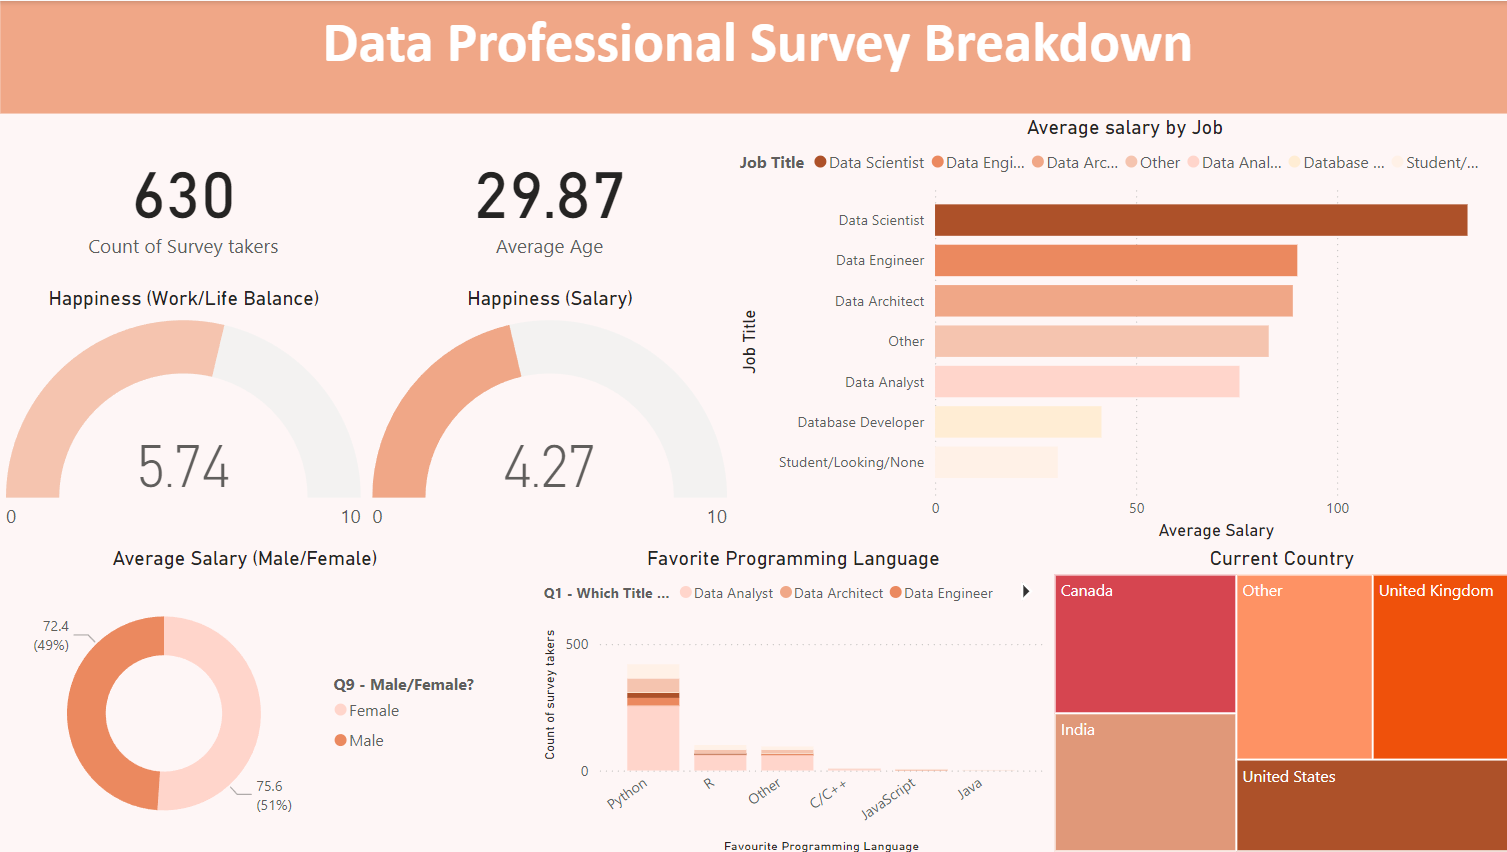

The page's visual inventory and layout, read from the dashboard file:
{"tool":"powerbi","page":{"name":"Page 1","canvas":[1280,720],"ordinal":0},"visuals":[{"type":"textbox","box":[9.6,0,1270.7,94.7],"z":0},{"type":"card","fields":{"Values":["CountNonNull(Data Professional Survey.Unique ID)"]},"box":[50.8,95.2,225.5,143.4],"z":1000},{"type":"card","fields":{"Values":["Avg(Data Professional Survey.Q10 - Current Age)"]},"box":[338.9,95.2,263.3,143.4],"z":2000},{"type":"barChart","title":"Average salary by Job ","fields":{"Category":["Data Professional Survey.Q1 - Which Title Best Fits your Current Role?.1"],"Y":["Avg(Data Professional Survey.Average Salary)"],"Series":["Data Professional Survey.Q1 - Which Title Best Fits your Current Role?.1"]},"box":[624.4,95.3,655.8,361.6],"z":3000},{"type":"columnChart","title":"Favorite Programming Language","fields":{"Category":["Data Professional Survey.Q5 - Favorite Programming Language.1"],"Y":["CountNonNull(Data Professional Survey.Unique ID)"],"Series":["Data Professional Survey.Q1 - Which Title Best Fits your Current Role?.1"]},"box":[460.1,457.5,428.8,263.3],"z":4000},{"type":"treemap","title":"Current Country","fields":{"Group":["Data Professional Survey.Q11 - Which Country do you live in?.1"],"Values":["Count(Data Professional Survey.Q11 - Which Country do you live in?.1)"]},"box":[889,457.5,391,262],"z":5000},{"type":"gauge","title":"Happiness (Work/Life Balance)","fields":{"Y":["Avg(Data Professional Survey.Q6 - How Happy are you in your Current Position with the following? (Work/Life Balance))"],"MinValue":["Min(Data Professional Survey.Q6 - How Happy are you in your Current Position with the following? (Work/Life Balance))"],"MaxValue":["Max(Data Professional Survey.Q6 - How Happy are you in your Current Position with the following? (Work/Life Balance))1"]},"box":[9.1,238.5,307.6,219],"z":6000},{"type":"gauge","title":"Happiness (Salary)","fields":{"Y":["Avg(Data Professional Survey.Q6 - How Happy are you in your Current Position with the following? (Salary))"],"MinValue":["Min(Data Professional Survey.Q6 - How Happy are you in your Current Position with the following? (Salary))"],"MaxValue":["Max(Data Professional Survey.Q6 - How Happy are you in your Current Position with the following? (Salary))"]},"box":[316.7,238.5,307.6,219],"z":7000},{"type":"donutChart","title":"Average Salary (Male/Female)","fields":{"Category":["Data Professional Survey.Q9 - Male/Female?"],"Y":["Avg(Data Professional Survey.Average Salary)"]},"box":[0,457.5,428.8,262],"z":8000}]}

Visuals, with their boxes in screenshot pixels (x1, y1, x2, y2), scaled from the page's 1280x720 canvas onto the 1507x852 screenshot:
textbox: box(11, 0, 1506, 112)
card - CountNonNull(Data Professional Survey.Unique ID): box(60, 113, 325, 282)
card - Avg(Data Professional Survey.Q10 - Current Age): box(399, 113, 709, 282)
"Average salary by Job " barChart: box(735, 113, 1506, 541)
"Favorite Programming Language" columnChart: box(542, 541, 1047, 851)
"Current Country" treemap: box(1047, 541, 1506, 851)
"Happiness (Work/Life Balance)" gauge: box(11, 282, 373, 541)
"Happiness (Salary)" gauge: box(373, 282, 735, 541)
"Average Salary (Male/Female)" donutChart: box(0, 541, 505, 851)
